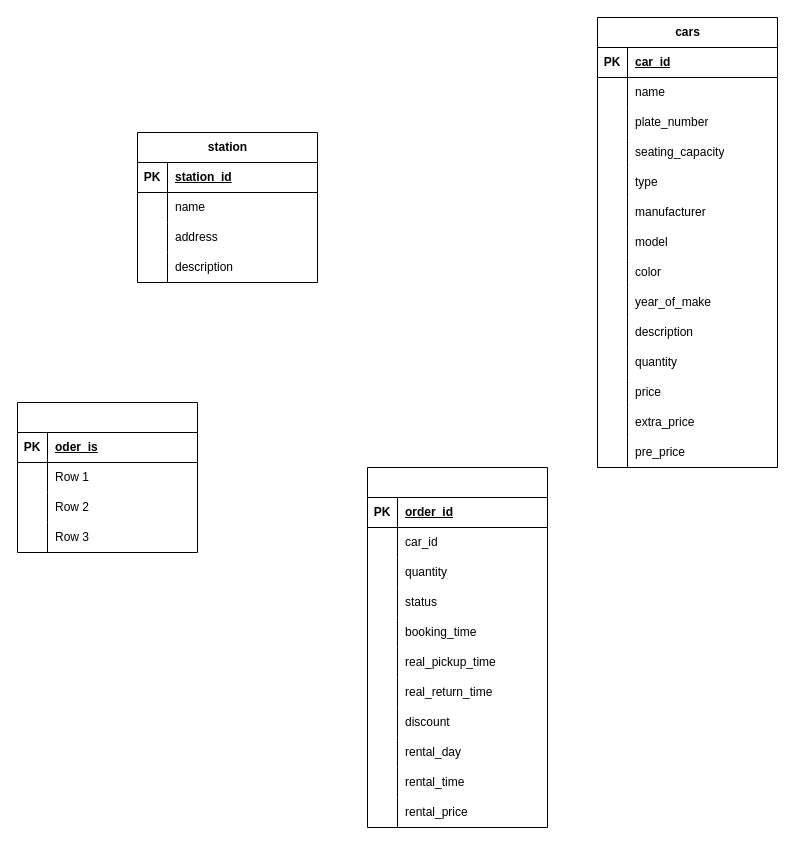
Some shapes in this 795 by 845 pixel diagram are drawn without their labels. Each missing label, with the box of its shape:
order_details: (366, 466, 548, 828)
orders: (16, 402, 198, 552)
